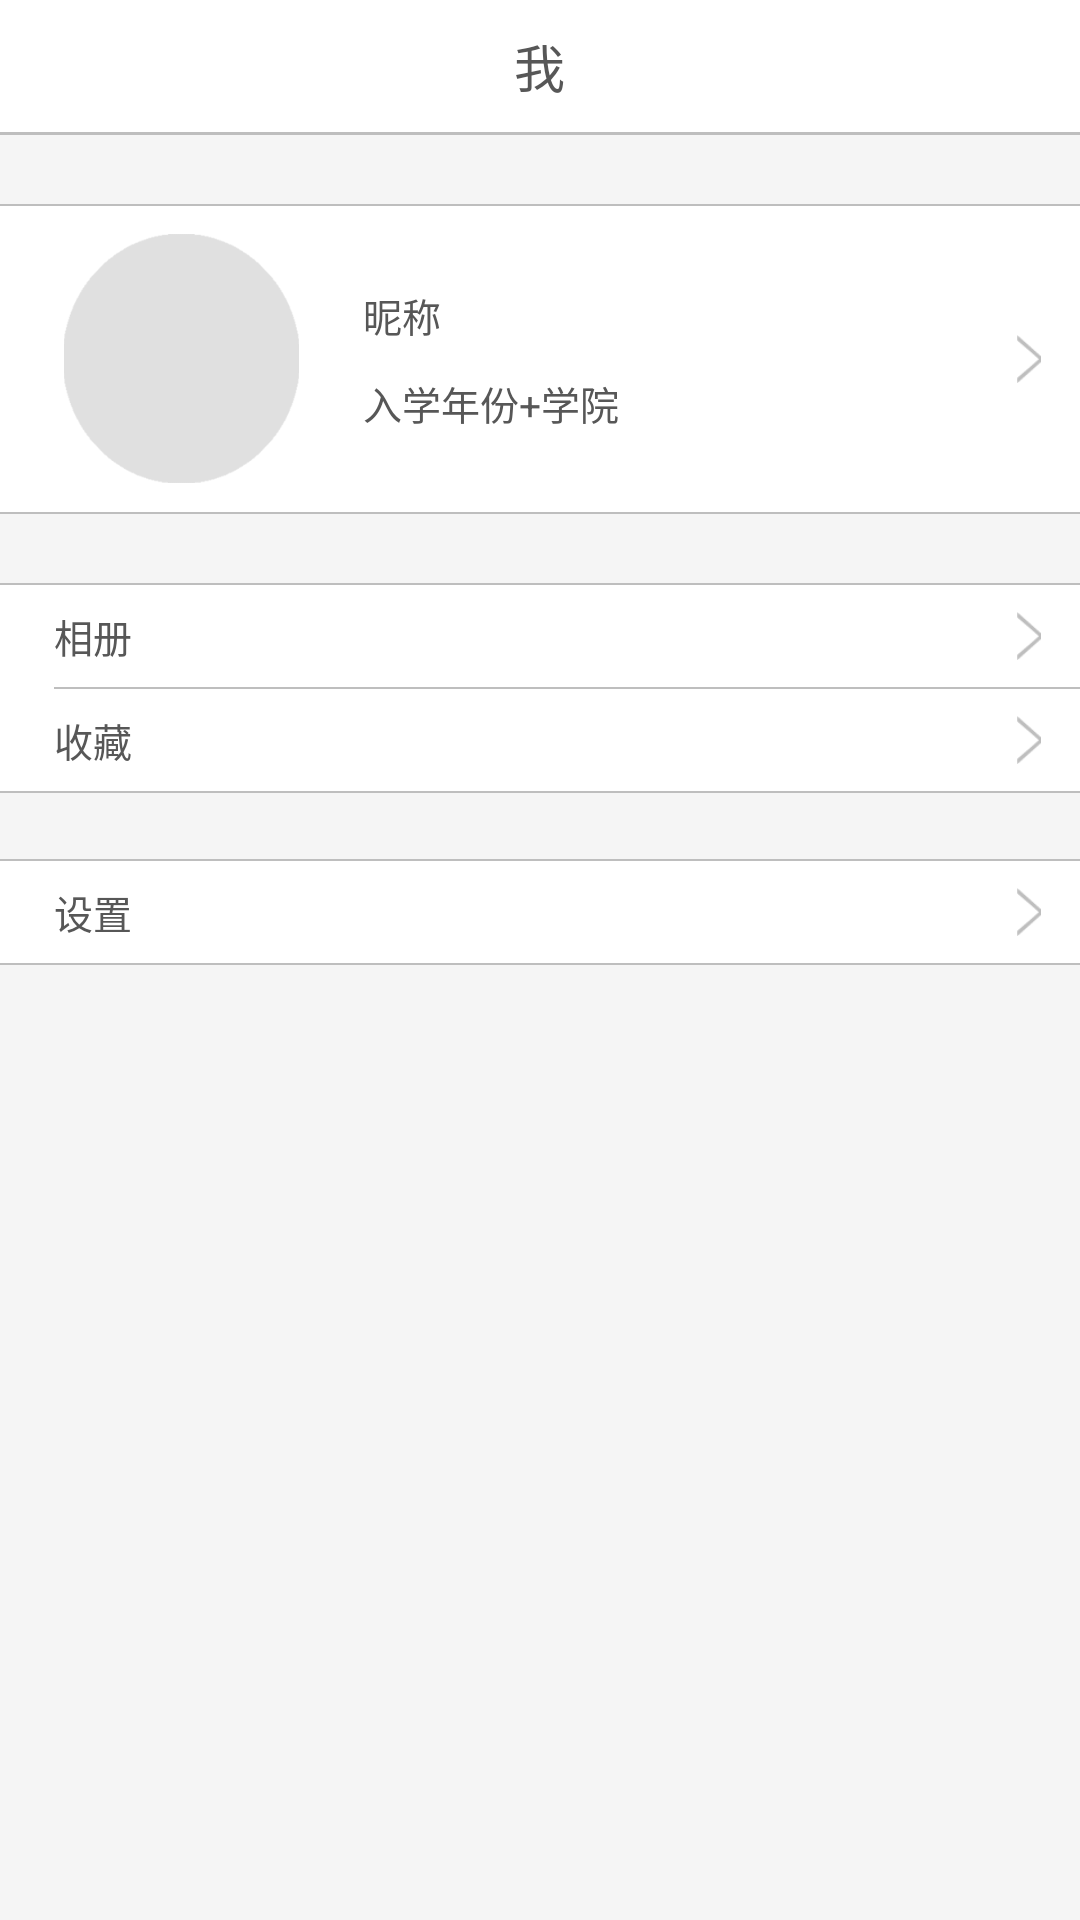

Where to tap for icons on this 1080 x 1920 app screen, as point (x, y):
arrow: point (1029, 359), point (1029, 636), point (1029, 740), point (1029, 912)
